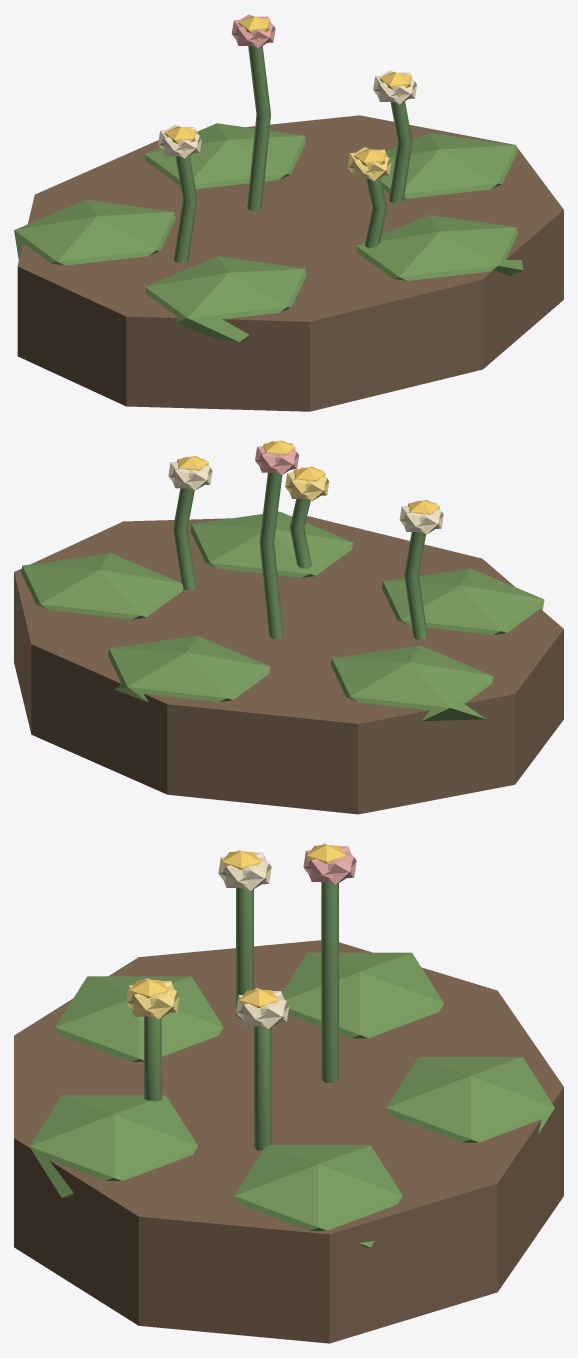
File: mdl_env_wildflower_patch.glb
3 renders of one model, top to bottom at view 1: azimuth 30°, elevation 25°; view 2: azimuth 150°, elevation 25°; view 3: azimuth 270°, elevation 25°, orthographic. The views are drawn at different scales.
Visible parts, largest first — view 1: Wildflower patch earth, Moss cushion.023, Moss cushion.024, Moss cushion.022, Moss cushion.020, Moss cushion.021, Small flower stem.001, Small flower stem, Small flower stem.002, Small flower stem.003; view 2: Wildflower patch earth, Moss cushion.022, Moss cushion.021, Moss cushion.020, Moss cushion.023, Moss cushion.024, Small flower stem.001, Small flower stem, Small flower stem.002, Small flower stem.003; view 3: Wildflower patch earth, Moss cushion.024, Moss cushion.020, Moss cushion.021, Moss cushion.022, Moss cushion.023, Small flower stem.001, Small flower stem.002, Small flower stem, Small flower stem.003.
Part boxes in pixels (<box>): Wildflower patch earth: <box>17,115,563,411</box>; Moss cushion.023: <box>145,256,306,342</box>; Moss cushion.024: <box>356,215,523,280</box>; Moss cushion.022: <box>14,199,175,265</box>; Moss cushion.020: <box>380,132,517,198</box>; Moss cushion.021: <box>144,123,305,189</box>; Small flower stem.001: <box>247,46,270,210</box>; Small flower stem: <box>174,156,197,262</box>; Small flower stem.002: <box>389,101,412,203</box>; Small flower stem.003: <box>365,178,386,248</box>; Wildflower patch earth: <box>14,516,563,814</box>; Moss cushion.022: <box>331,645,493,721</box>; Moss cushion.021: <box>108,635,270,702</box>; Moss cushion.020: <box>15,553,183,619</box>; Moss cushion.023: <box>382,568,544,634</box>; Moss cushion.024: <box>190,511,352,577</box>; Small flower stem.001: <box>259,472,283,638</box>; Small flower stem: <box>404,532,427,639</box>; Small flower stem.002: <box>173,488,196,590</box>; Small flower stem.003: <box>289,499,311,568</box>; Wildflower patch earth: <box>14,940,563,1343</box>; Moss cushion.024: <box>29,1095,197,1197</box>; Moss cushion.020: <box>234,1145,402,1247</box>; Moss cushion.021: <box>386,1057,554,1142</box>; Moss cushion.022: <box>282,952,444,1038</box>; Moss cushion.023: <box>55,976,223,1061</box>; Small flower stem.001: <box>321,882,338,1082</box>; Small flower stem.002: <box>254,1026,271,1150</box>; Small flower stem: <box>236,888,253,1018</box>; Small flower stem.003: <box>144,1016,161,1101</box>.
Size of the model in its own units: 1.97 by 1.07 by 1.55.
